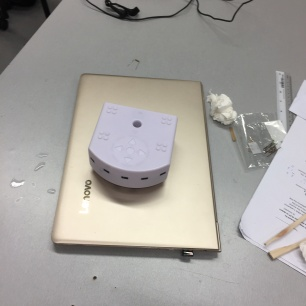thymio: (87, 98, 178, 196)
